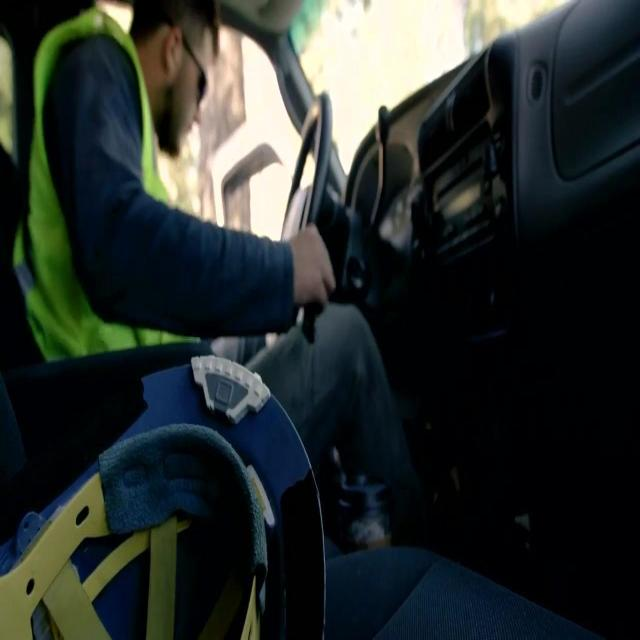Vest: (12, 8, 202, 360)
